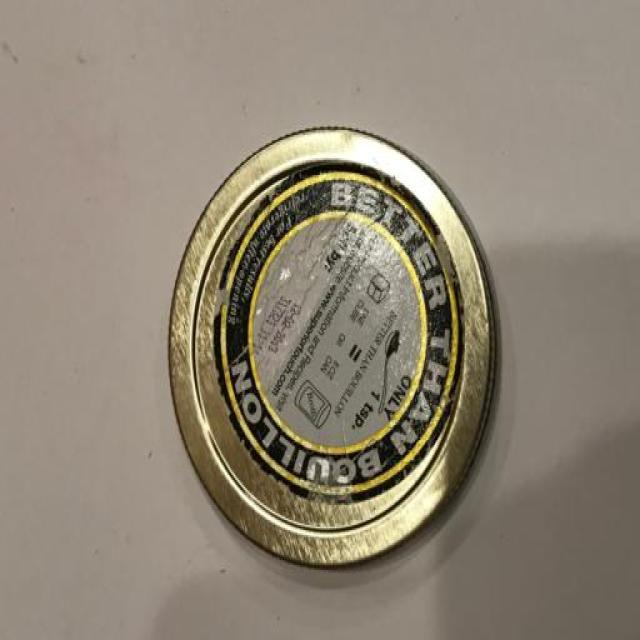metal: (166, 123, 502, 570)
